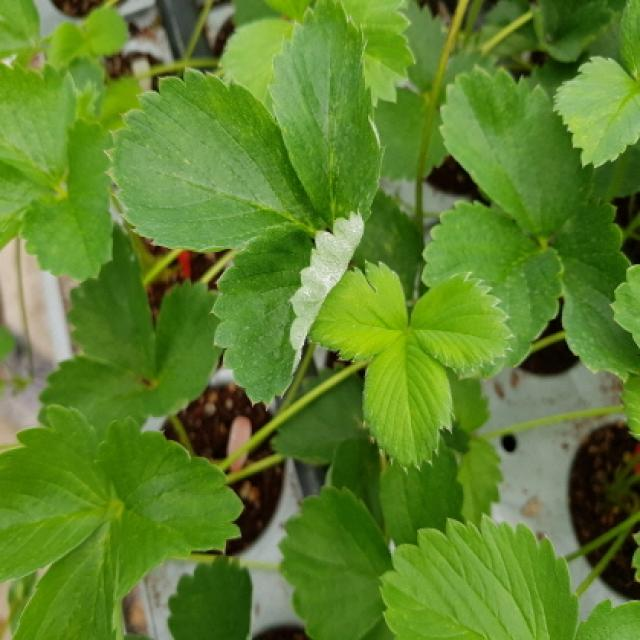Powdery Mildew Leaf: (209, 207, 366, 411), (267, 0, 385, 231)
